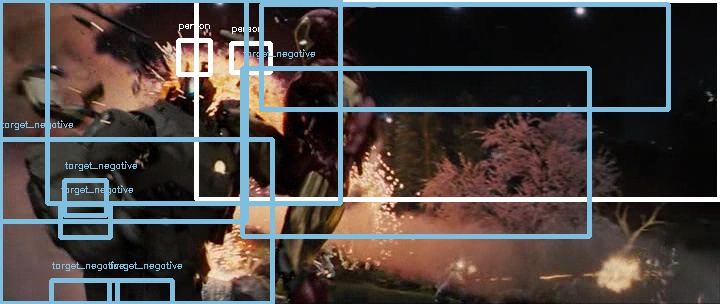person: (298, 13, 340, 61), (297, 13, 339, 61), (299, 13, 341, 61), (298, 12, 340, 60), (298, 14, 340, 62)
target_negative: (538, 24, 586, 240), (310, 148, 620, 173), (539, 220, 637, 289), (294, 44, 558, 65), (614, 187, 707, 214), (535, 262, 543, 301)
